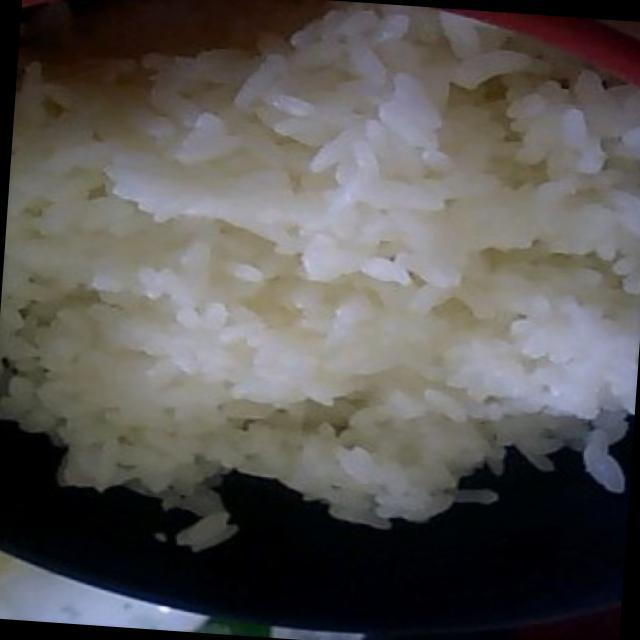Rice: (0, 12, 640, 527)
